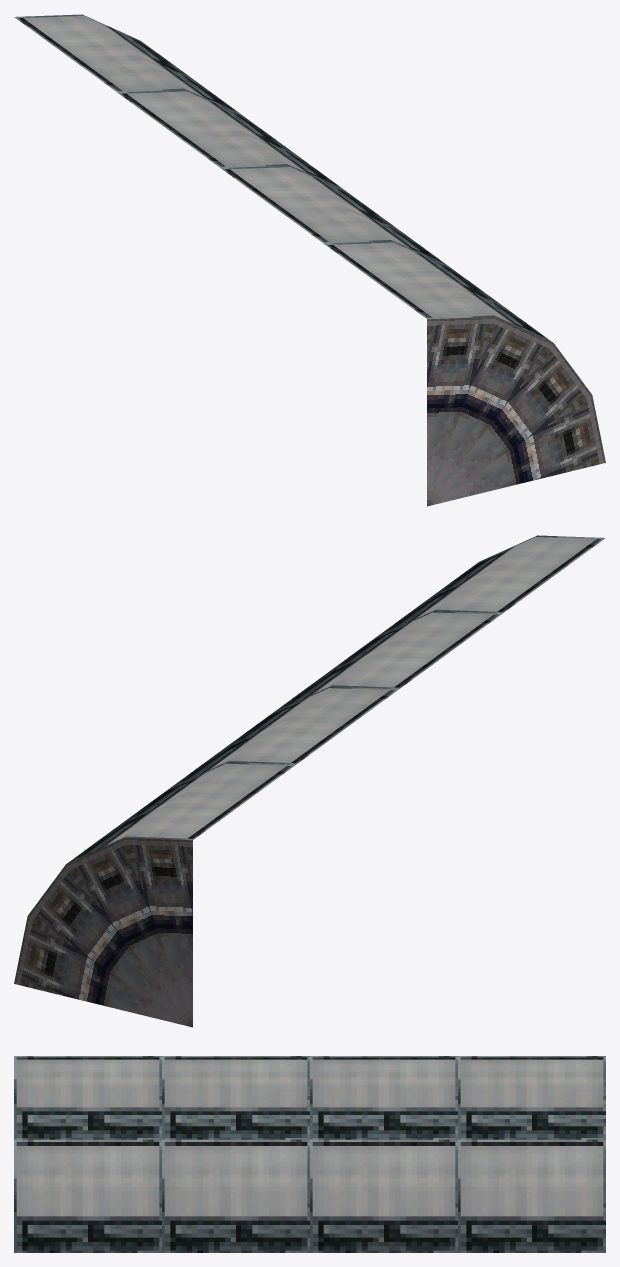
The picture shows the model from 3 angles, top to bottom: view 1: azimuth 30°, elevation 25°; view 2: azimuth 150°, elevation 25°; view 3: azimuth 270°, elevation 25°; orthographic projection. The views are drawn at different scales.
Parts seen in each view (by area): view 1: Joke_obj_067; view 2: Joke_obj_067; view 3: Joke_obj_067.
Part boxes in pixels (x1,y1,x2,y2): Joke_obj_067: (14, 14, 605, 506); Joke_obj_067: (14, 535, 605, 1027); Joke_obj_067: (14, 1056, 605, 1252).
Size of the model in its own units: 1 by 1 by 4.
2 materials, 2 textured.
